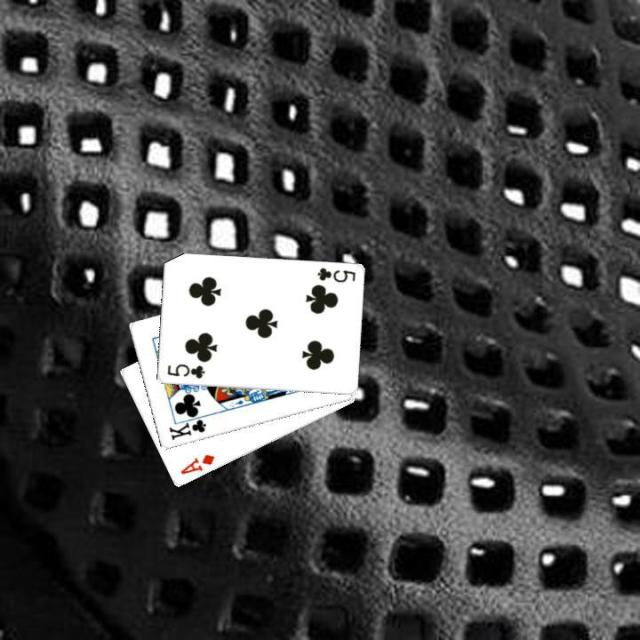5C: (313, 264, 356, 284), (163, 361, 206, 380)
AD: (176, 451, 216, 476)
KC: (164, 411, 209, 442)
